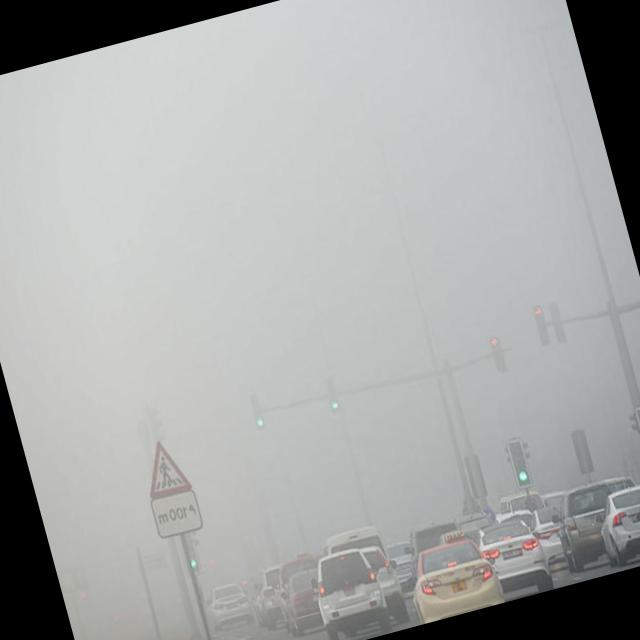car: (396, 528, 509, 626), (306, 540, 390, 640), (474, 513, 557, 602), (548, 483, 627, 573), (272, 563, 331, 637), (589, 481, 640, 566), (363, 540, 411, 626), (205, 577, 258, 631), (250, 560, 291, 626), (532, 501, 570, 572)
